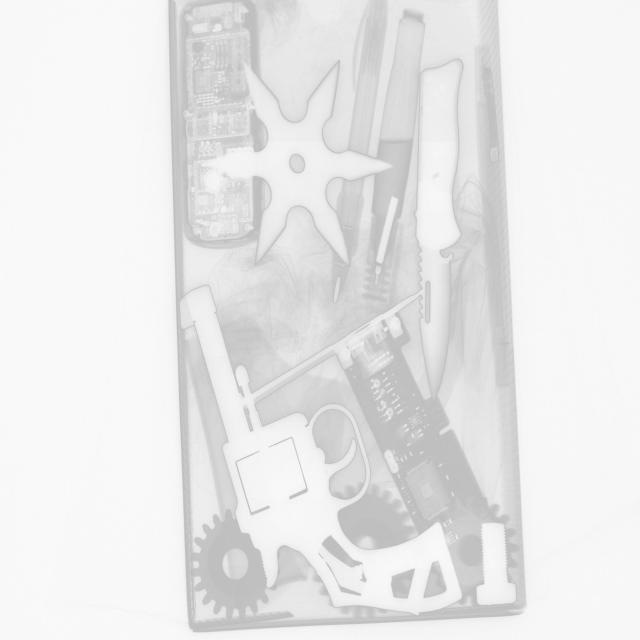knife: (412, 58, 468, 385)
pistol: (181, 282, 463, 609)
